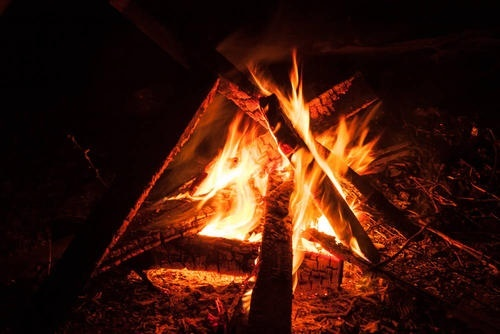fire: (193, 44, 377, 279)
